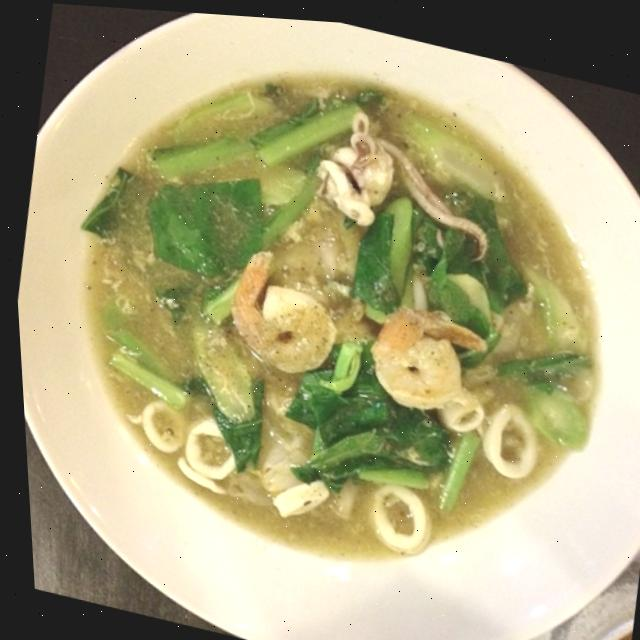面条主食: (31, 2, 640, 640)
